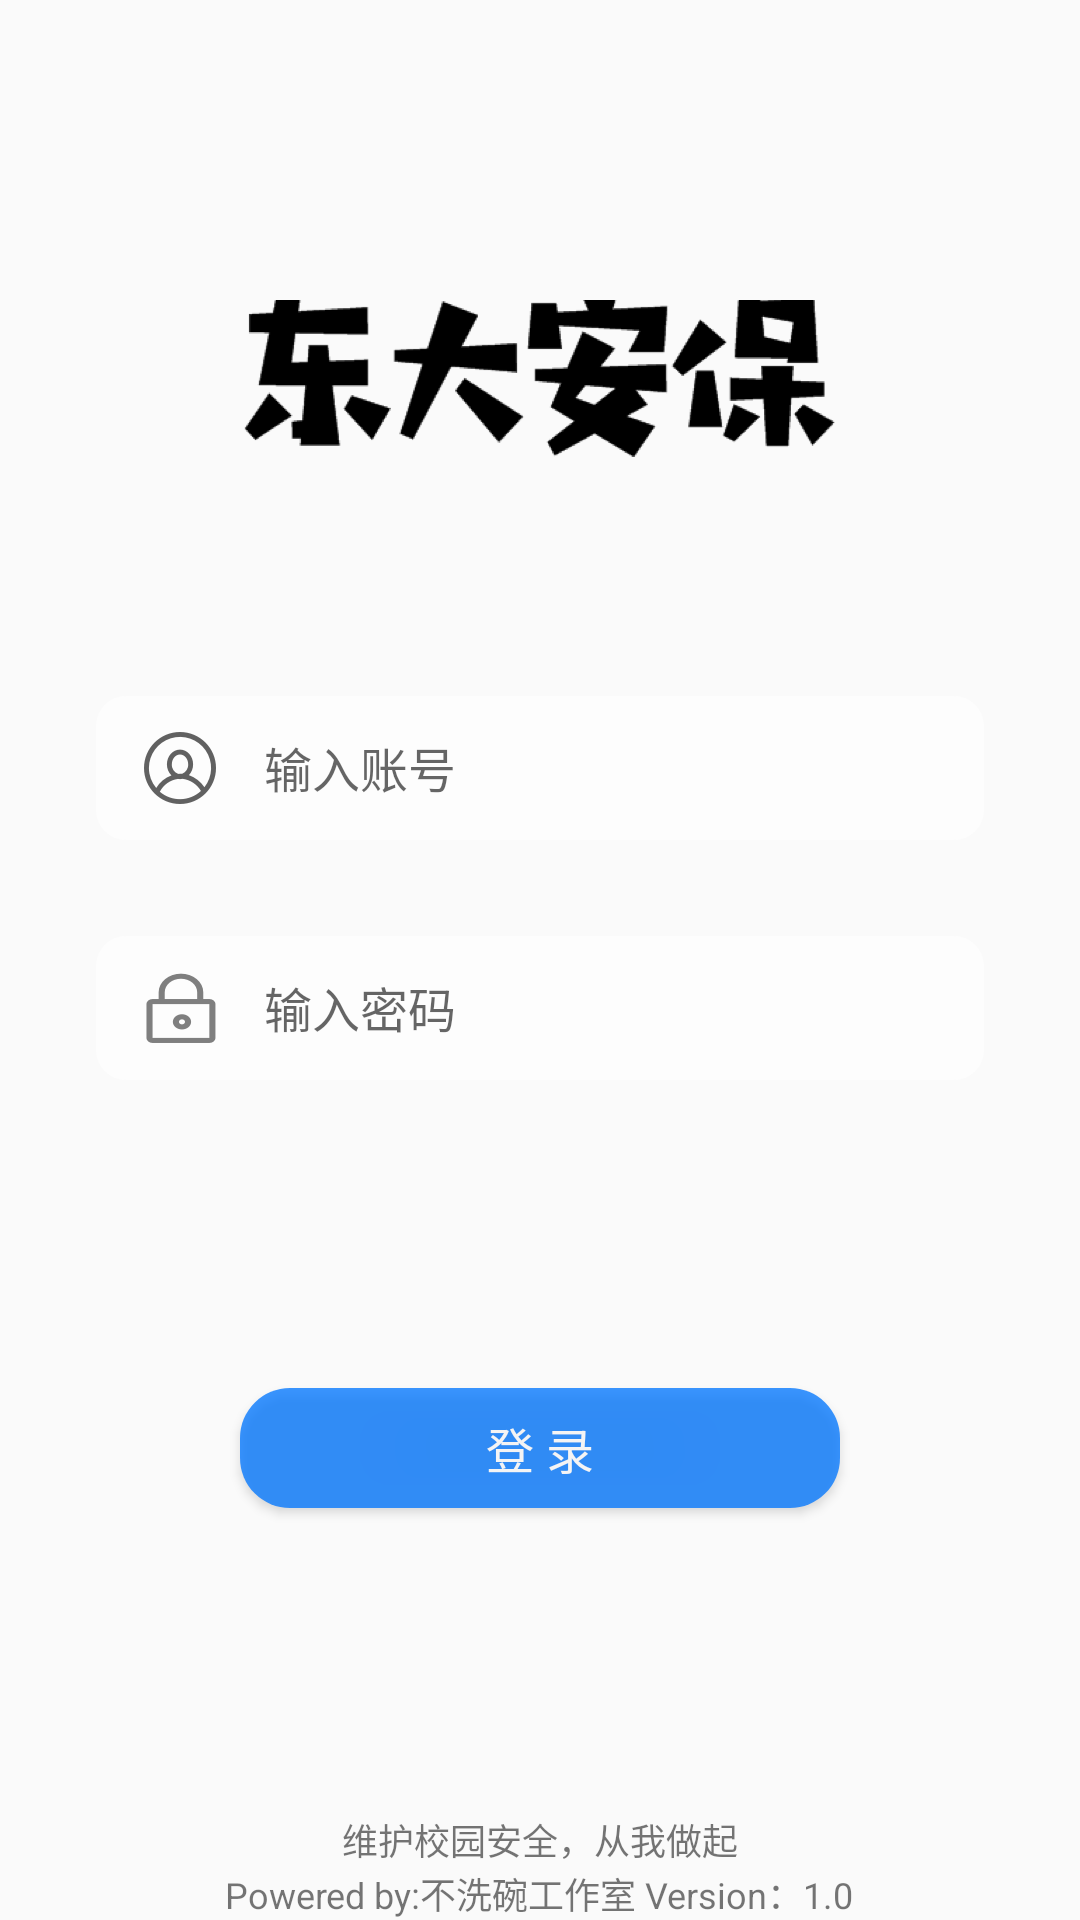

Icons on this 1080 x 1920 Android screen, each with its box as bbox=(x1, y1, x2, y2):
locked: bbox=(146, 973, 216, 1043)
